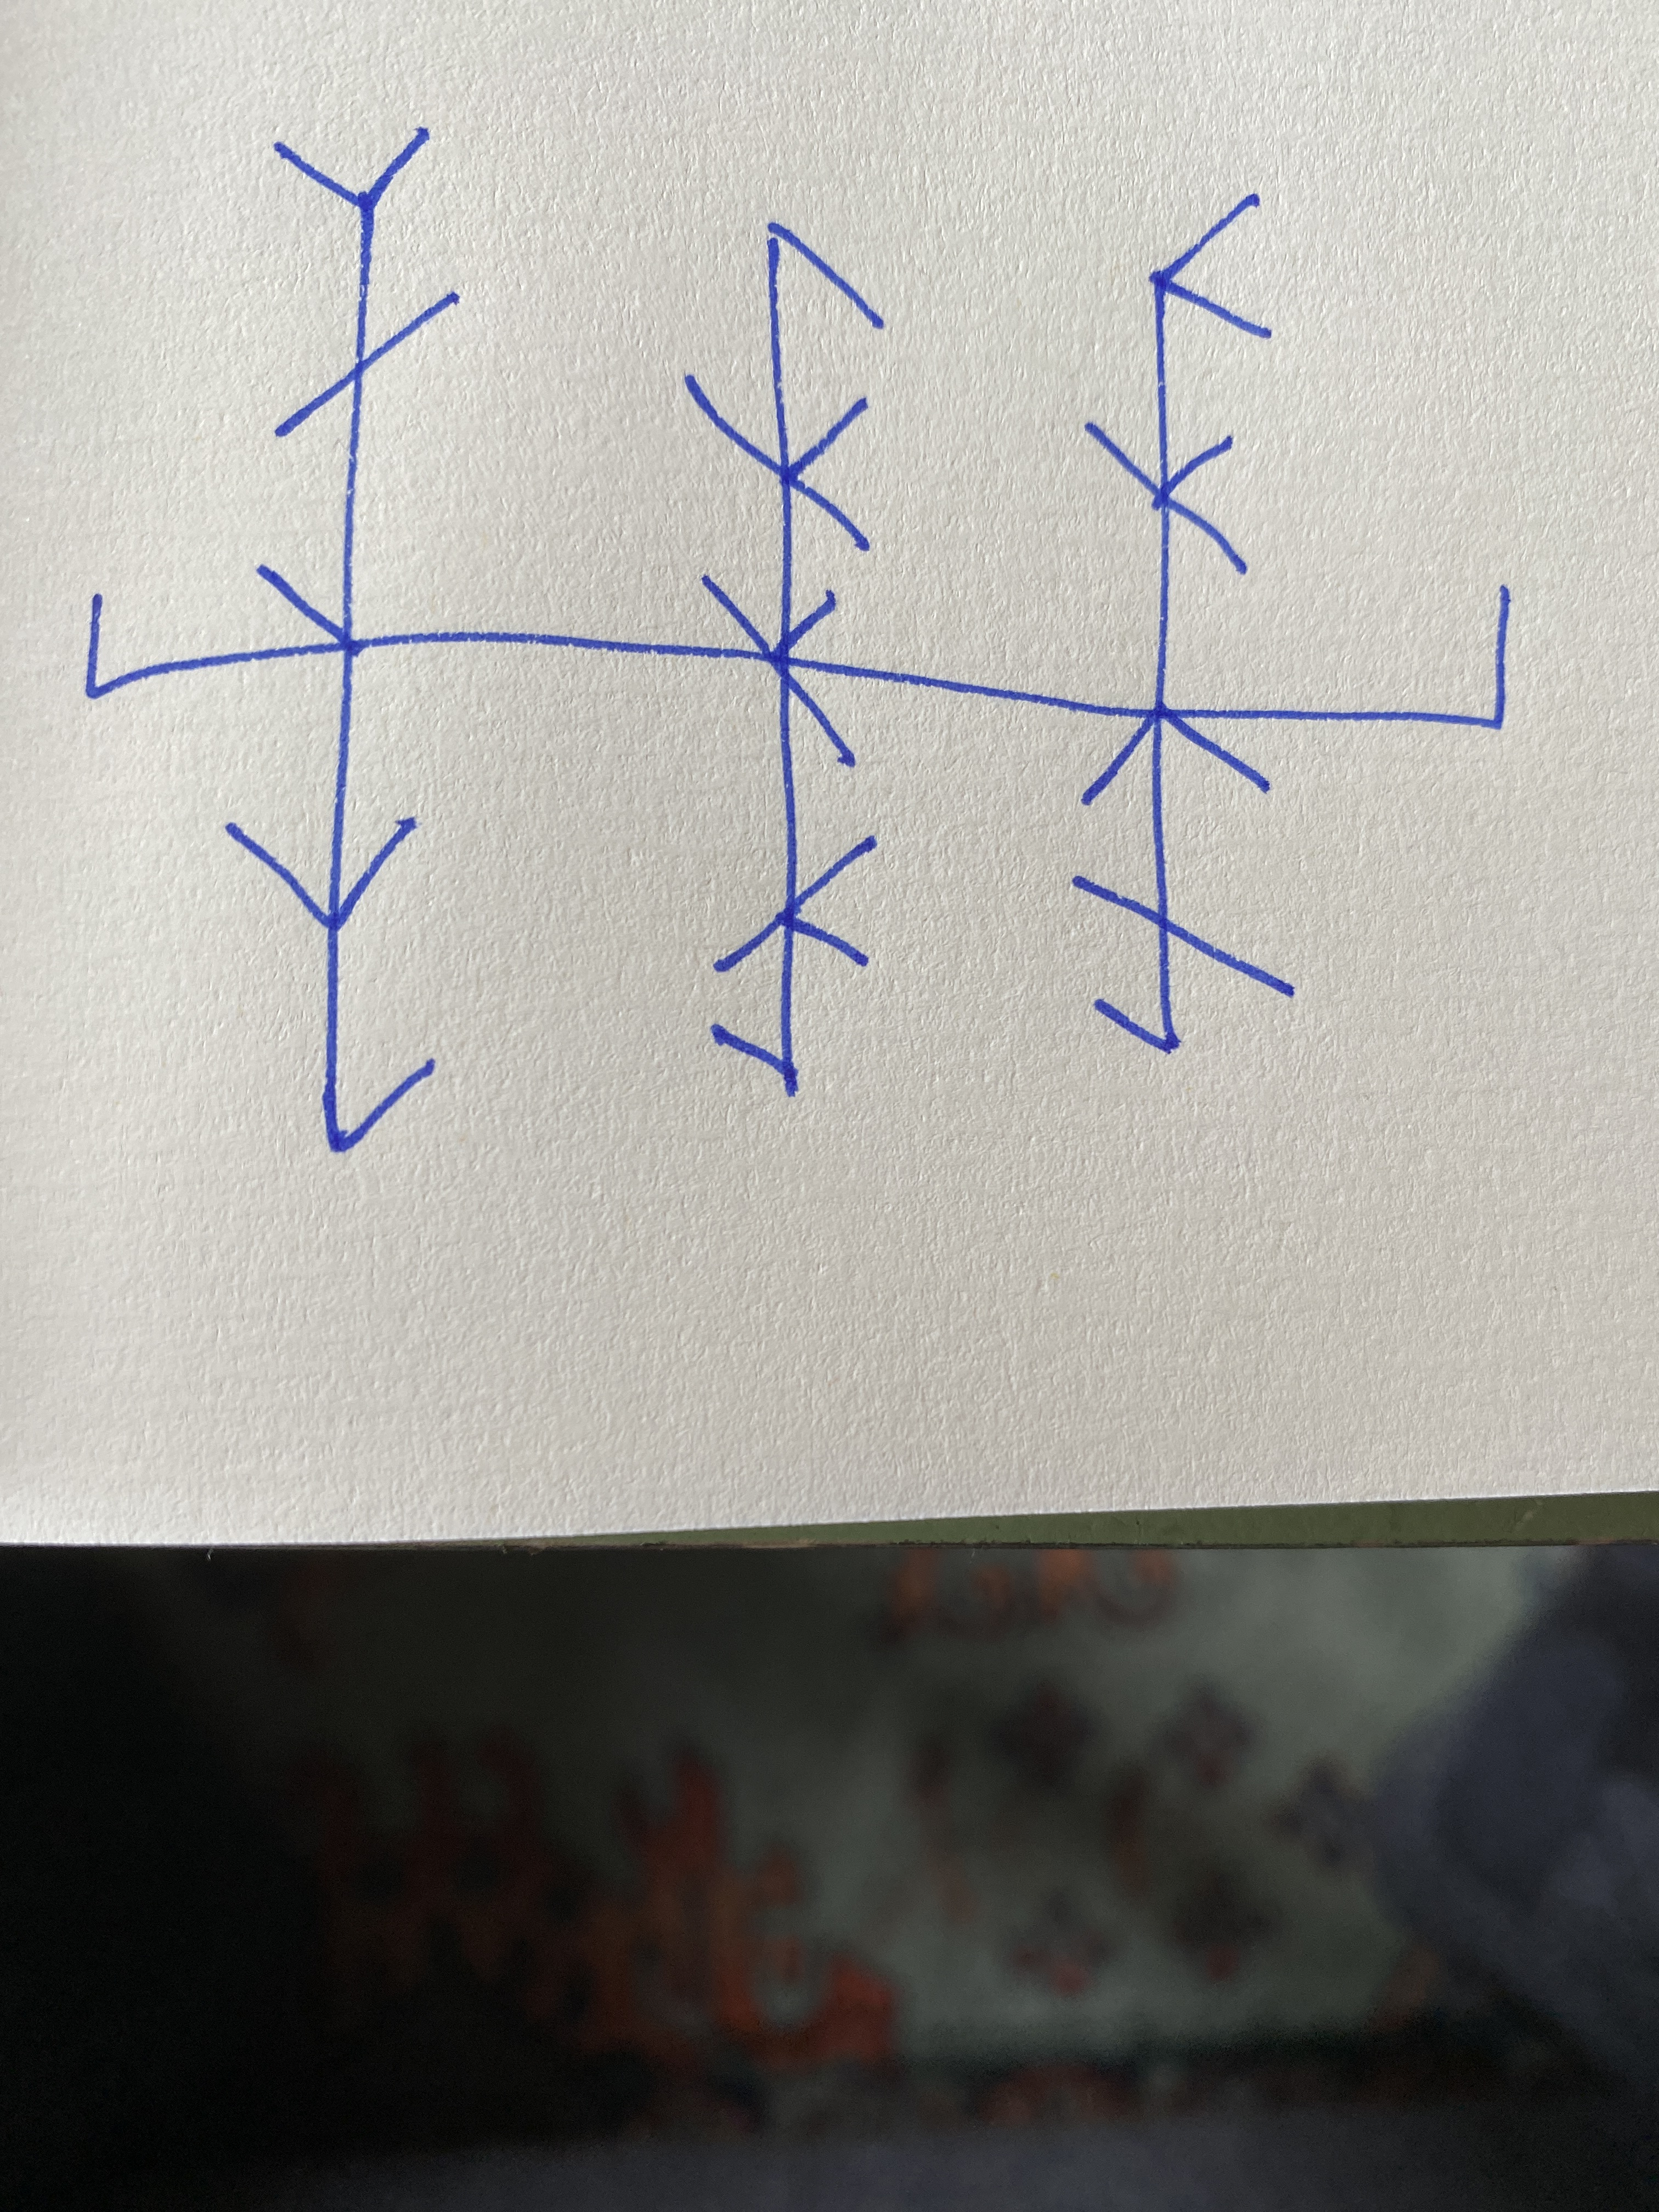Bar: (223, 125, 462, 1151), (1072, 190, 1298, 1052), (683, 221, 887, 1096)
Barcode: (87, 127, 1513, 1153)
End: (1199, 583, 1509, 735)
Start: (84, 592, 275, 698)
